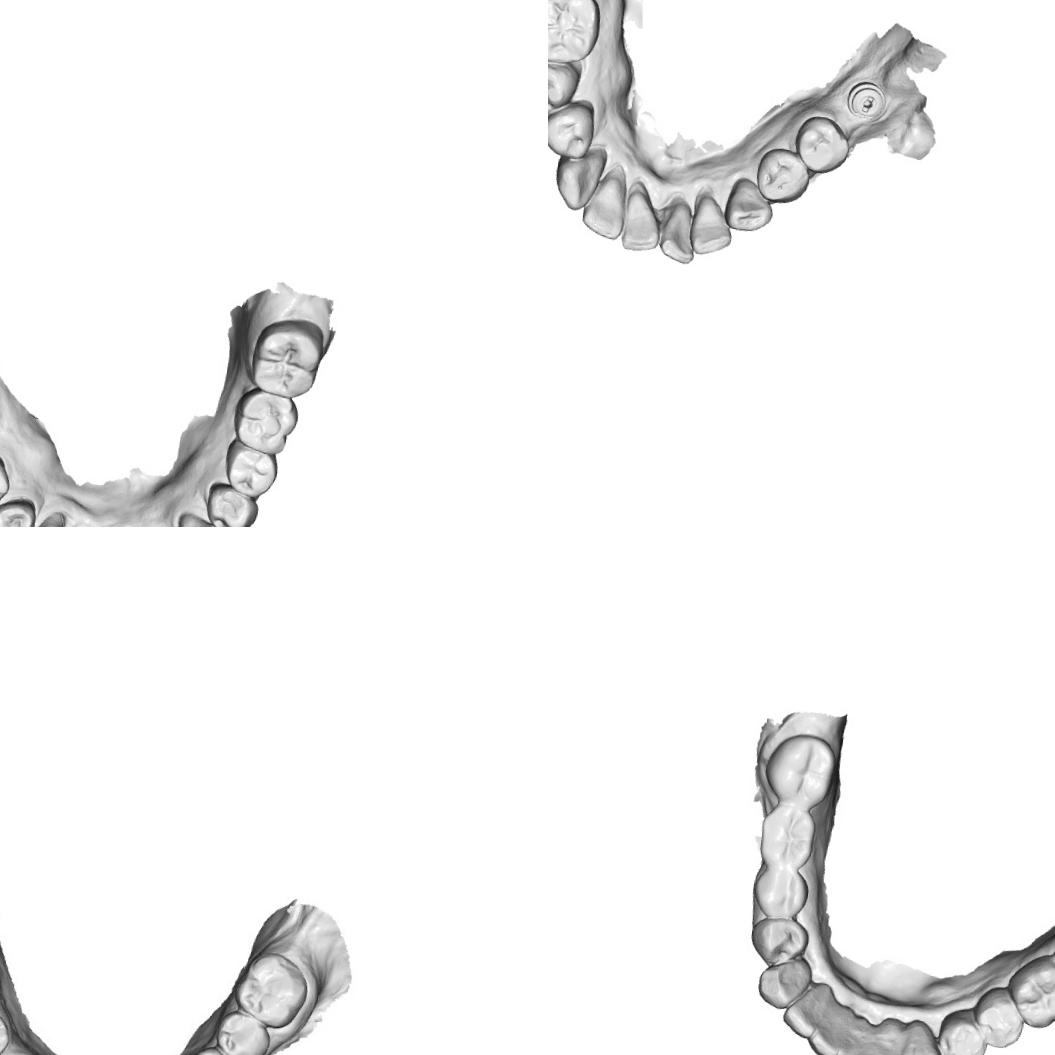canine: (752, 954, 814, 1012), (721, 175, 775, 234), (893, 1022, 947, 1055), (170, 508, 232, 527), (15, 507, 68, 527)
implant_minus: (845, 78, 889, 120)
incisor: (580, 172, 632, 242), (552, 146, 604, 216), (655, 199, 703, 267), (619, 188, 664, 258), (690, 195, 736, 259), (778, 986, 827, 1042), (802, 1017, 845, 1055), (829, 1035, 871, 1055), (861, 1043, 905, 1055)
molar: (229, 947, 312, 1032), (247, 312, 324, 402), (759, 728, 840, 811), (229, 384, 302, 459), (753, 802, 820, 871), (1003, 953, 1055, 1033), (548, 0, 604, 68)
premolar: (968, 983, 1030, 1054), (790, 112, 854, 178), (220, 436, 282, 500), (751, 145, 813, 207), (748, 862, 812, 921), (746, 915, 812, 972), (548, 100, 599, 163), (212, 1007, 273, 1055), (931, 1007, 991, 1055), (201, 480, 262, 527), (548, 57, 582, 121), (0, 492, 38, 527), (0, 447, 13, 513), (184, 1043, 244, 1055)
